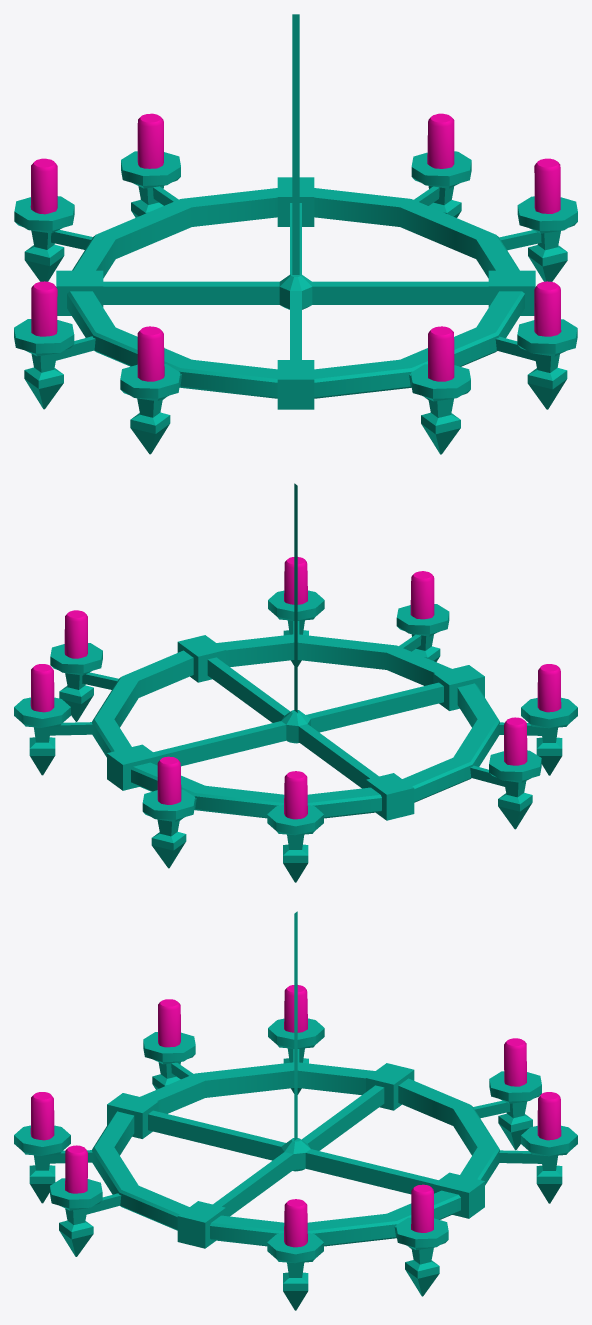
Rendered from Chandelier (1).FBX.
The picture shows the model from 3 angles, top to bottom: view 1: azimuth 30°, elevation 25°; view 2: azimuth 150°, elevation 25°; view 3: azimuth 270°, elevation 25°; orthographic projection. The views are drawn at different scales.
Visible parts, largest first — view 1: Object002; view 2: Object002; view 3: Object002.
Part boxes in pixels (x1=…): Object002: x1=14, y1=14, x2=577, y2=454; Object002: x1=14, y1=483, x2=577, y2=882; Object002: x1=14, y1=911, x2=577, y2=1310.
Size of the model in its own units: 308 by 175 by 308.
